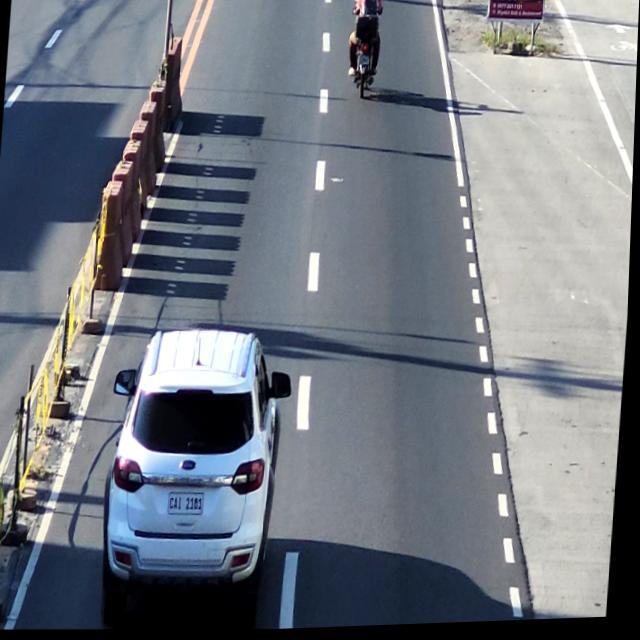Car: (106, 327, 293, 622)
License-Plate: (170, 493, 208, 516), (358, 56, 372, 68)
Motorcycle: (344, 0, 383, 105)
